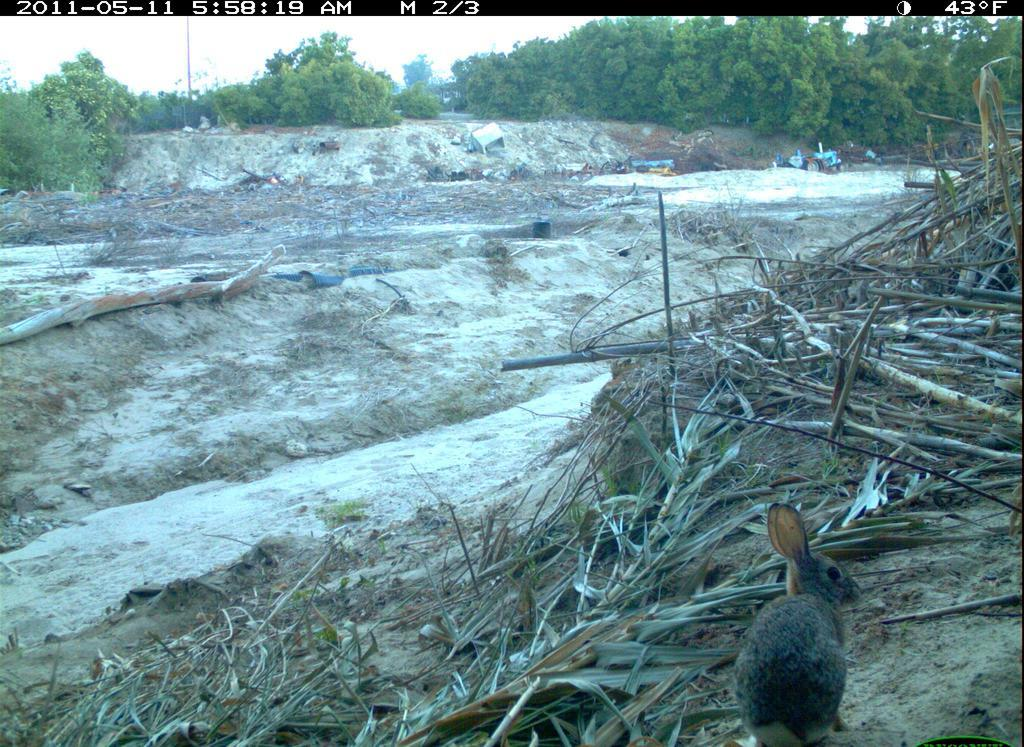rabbit: (730, 498, 867, 744)
